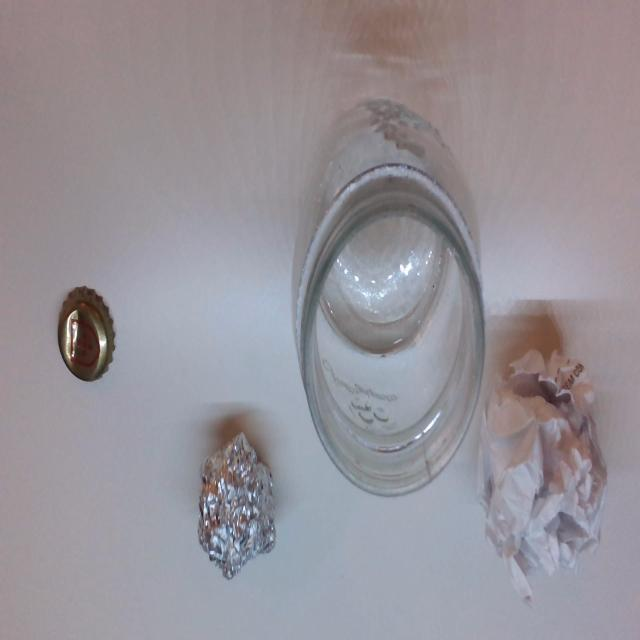Glass: (288, 102, 485, 506)
Paper: (481, 348, 610, 605)
